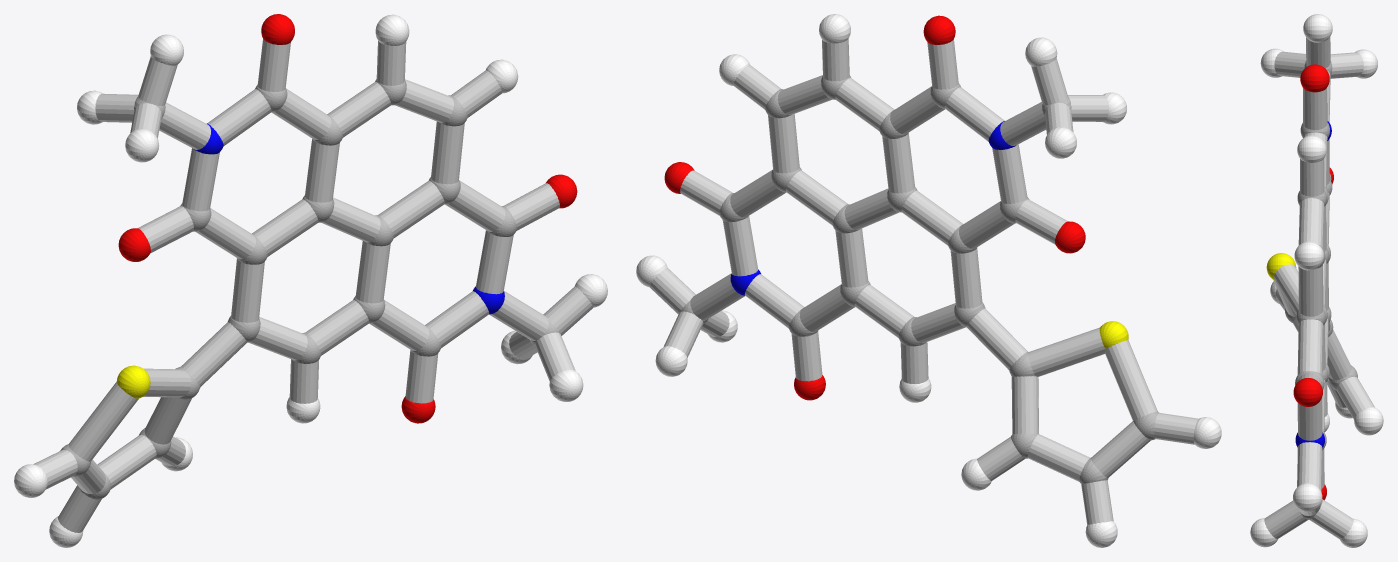
File: Dimethyl_Naphthalene_Dicarboximide_Phi_0_Theta_150_Thiophene.glb
3 renders of one model, left to right at view 1: azimuth 30°, elevation 25°; view 2: azimuth 150°, elevation 25°; view 3: azimuth 270°, elevation 25°, orthographic. The views are drawn at different scales.
Parts seen in each view (by area): view 1: grp14119, grp7241, grp1, grp12309, grp13757, grp11585; view 2: grp14119, grp7241, grp1, grp12309, grp11585; view 3: grp14119, grp7241, grp1, grp12309, grp13757, grp11585.
Part boxes in pixels (<box>): grp14119: <box>33,39,593,532</box>; grp7241: <box>14,14,607,547</box>; grp1: <box>60,79,559,499</box>; grp12309: <box>118,14,577,423</box>; grp13757: <box>116,365,150,398</box>; grp11585: <box>194,123,504,314</box>; grp14119: <box>649,38,1198,524</box>; grp7241: <box>636,14,1221,547</box>; grp1: <box>680,75,1158,484</box>; grp12309: <box>664,15,1085,400</box>; grp11585: <box>730,121,1016,295</box>; grp14119: <box>1264,37,1374,539</box>; grp7241: <box>1250,14,1383,547</box>; grp1: <box>1285,61,1357,519</box>; grp12309: <box>1293,64,1333,500</box>; grp13757: <box>1266,253,1296,280</box>; grp11585: <box>1295,121,1331,447</box>.
Bounding box in the file's own units: 12.26 × 9.8 × 2.71.
